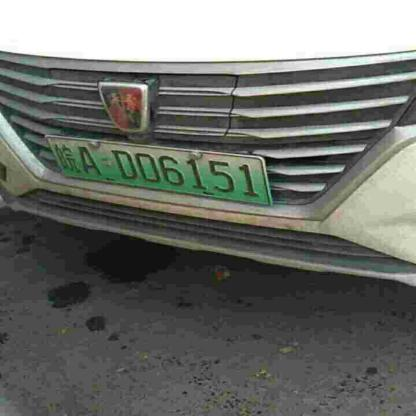lp: (46, 136, 63, 205)
